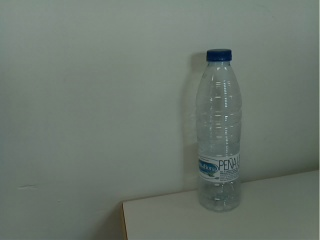botella plastico: (197, 46, 245, 214)
